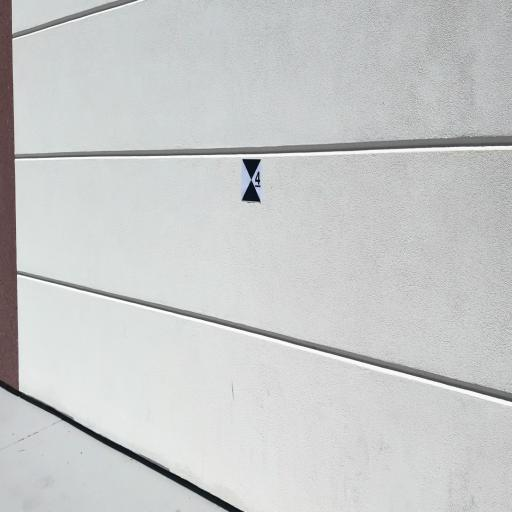target4: (241, 158, 262, 202)
